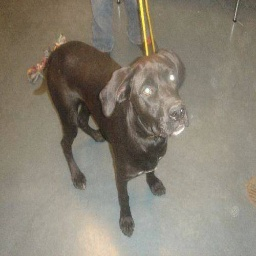dog: (43, 39, 186, 235)
